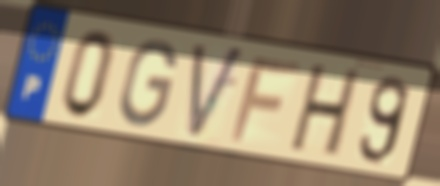0: (59, 26, 117, 122)
9: (356, 73, 409, 166)
F: (226, 54, 305, 145)
G: (117, 36, 180, 130)
H: (286, 62, 365, 162)
V: (186, 39, 249, 145)
